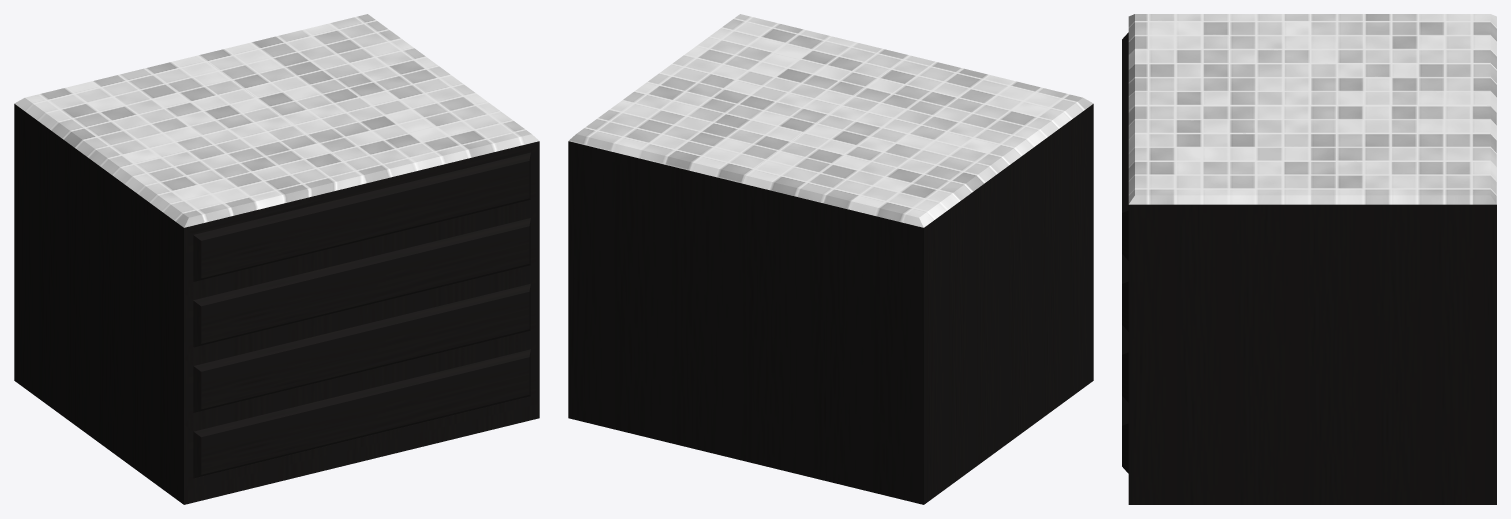
Rendered from Open_Kitchencounter_B_2.FBX.
3 renders of one model, left to right at view 1: azimuth 30°, elevation 25°; view 2: azimuth 150°, elevation 25°; view 3: azimuth 270°, elevation 25°, orthographic. The views are drawn at different scales.
Parts seen in each view (by area): view 1: Open_Counter_B, Drawer_B, Drawer_A, Drawer_C, Drawer_D; view 2: Open_Counter_B; view 3: Open_Counter_B, Drawer_A, Drawer_B, Drawer_C, Drawer_D.
Part boxes in pixels (<box>): Open_Counter_B: <box>14,14,539,504</box>; Drawer_B: <box>193,218,530,347</box>; Drawer_A: <box>193,152,530,281</box>; Drawer_C: <box>193,283,530,412</box>; Drawer_D: <box>193,349,530,478</box>; Open_Counter_B: <box>568,14,1093,504</box>; Open_Counter_B: <box>1128,14,1496,504</box>; Drawer_A: <box>1122,32,1128,260</box>; Drawer_B: <box>1122,254,1128,331</box>; Drawer_C: <box>1122,325,1128,402</box>; Drawer_D: <box>1122,396,1128,473</box>.
Bounding box in the file's own units: 181 × 138 × 153.
